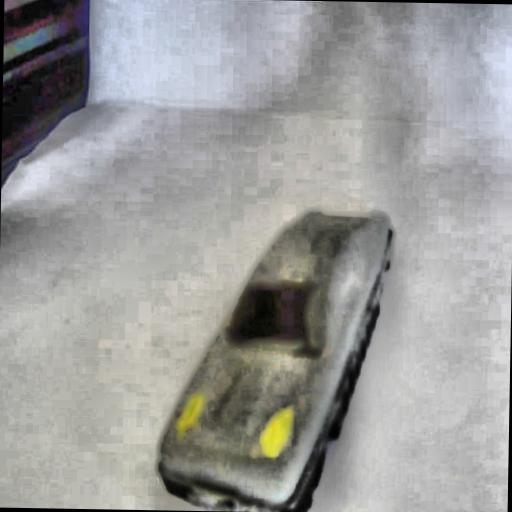normal_car: (150, 205, 393, 512)
